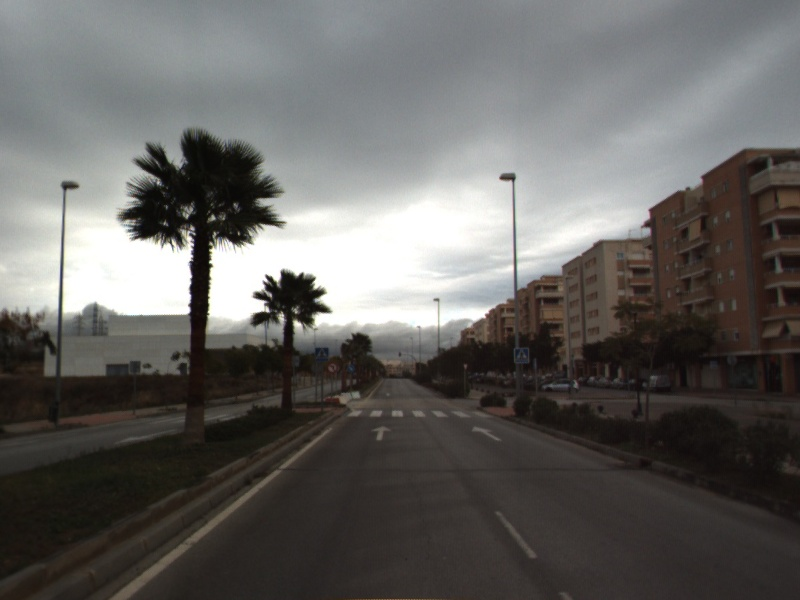STRAIGHT: (470, 424, 504, 443), (369, 423, 393, 442)
